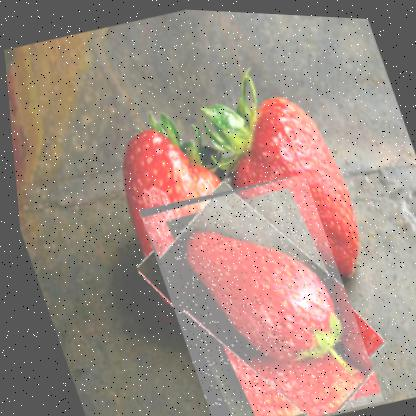strawberry: (129, 161, 380, 415)
